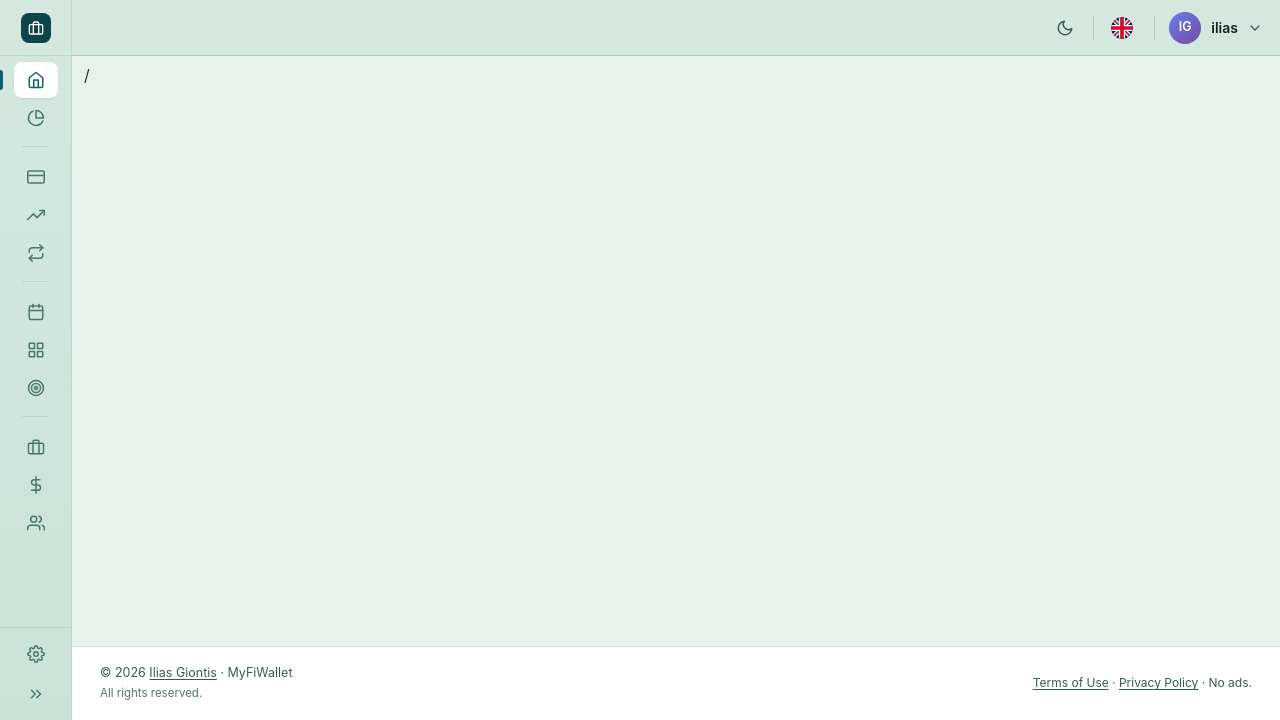
Test: the collapsed rail on a wide screen › expands again from its button, which says which way it goes
Click the button named "Expand sidebar". click: (36, 694)
box: 18,676 -> 54,712
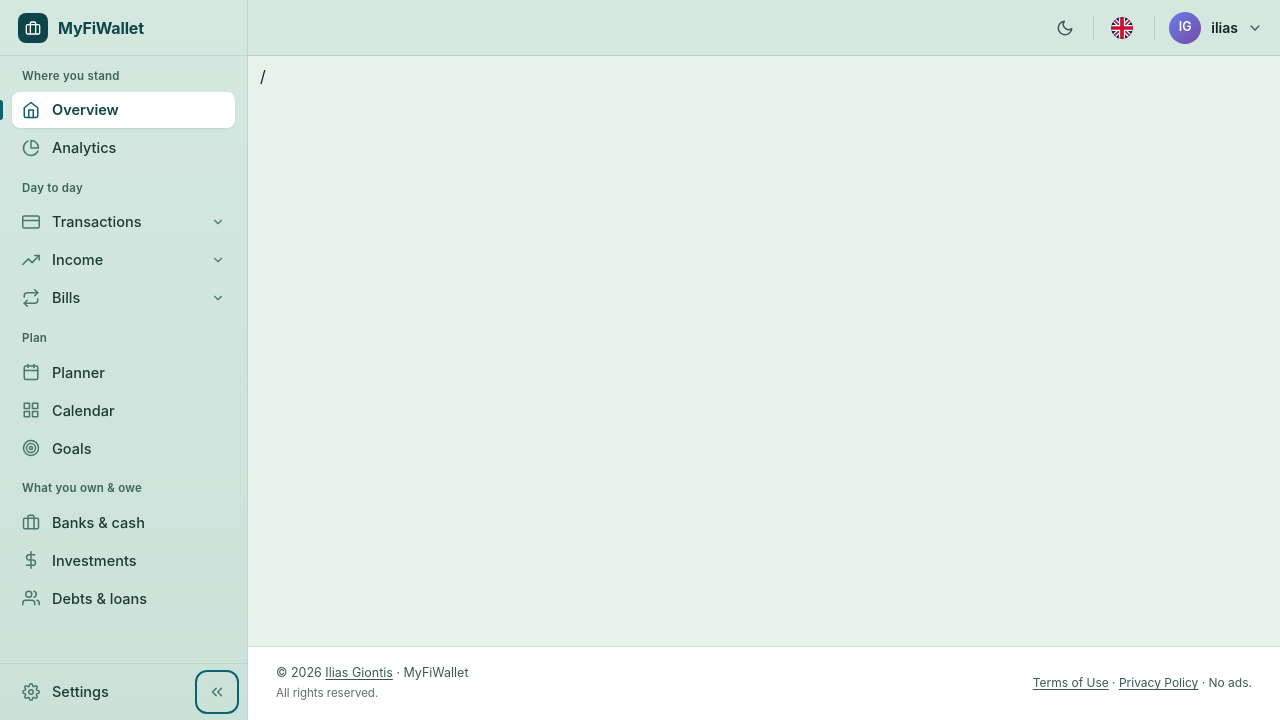
Expected: the button named "Collapse sidebar" is shown, 199,674 -> 235,710
